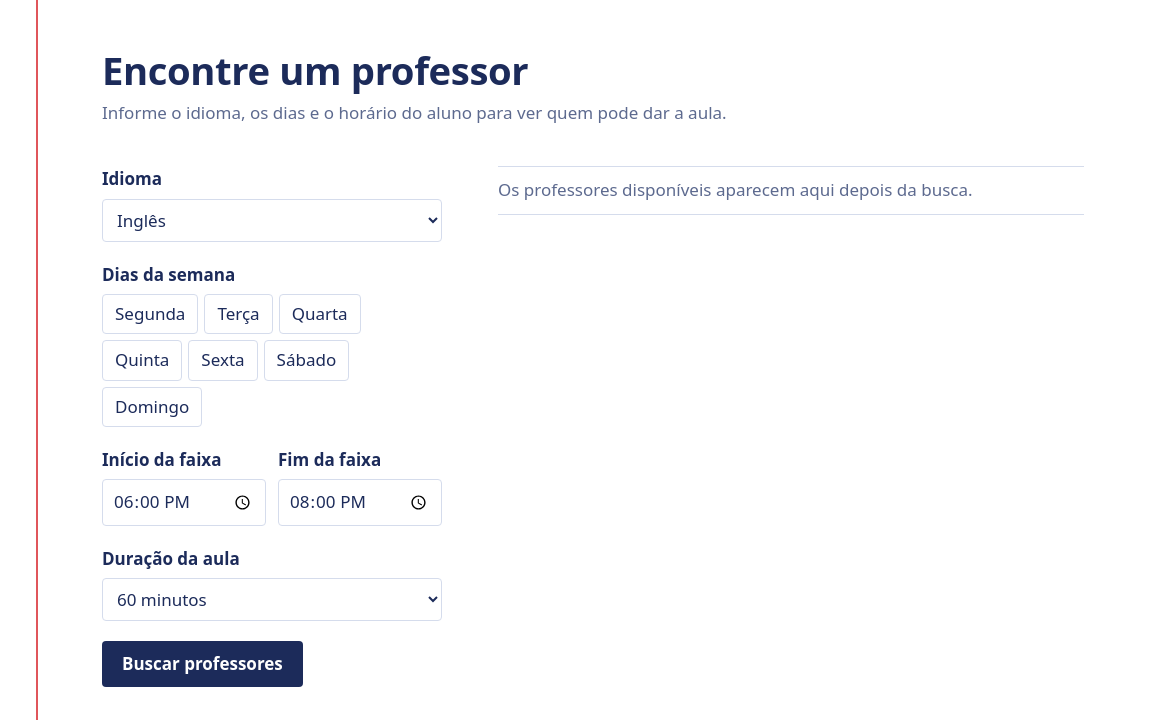
Test: Tela de busca de professores › mostra os erros de validação devolvidos pela API
The width and height of the screenshot is (1152, 720).
Select "Espanhol" in the dropdown labelled "Idioma" at (272, 220), box left=102, top=199, right=442, bottom=242
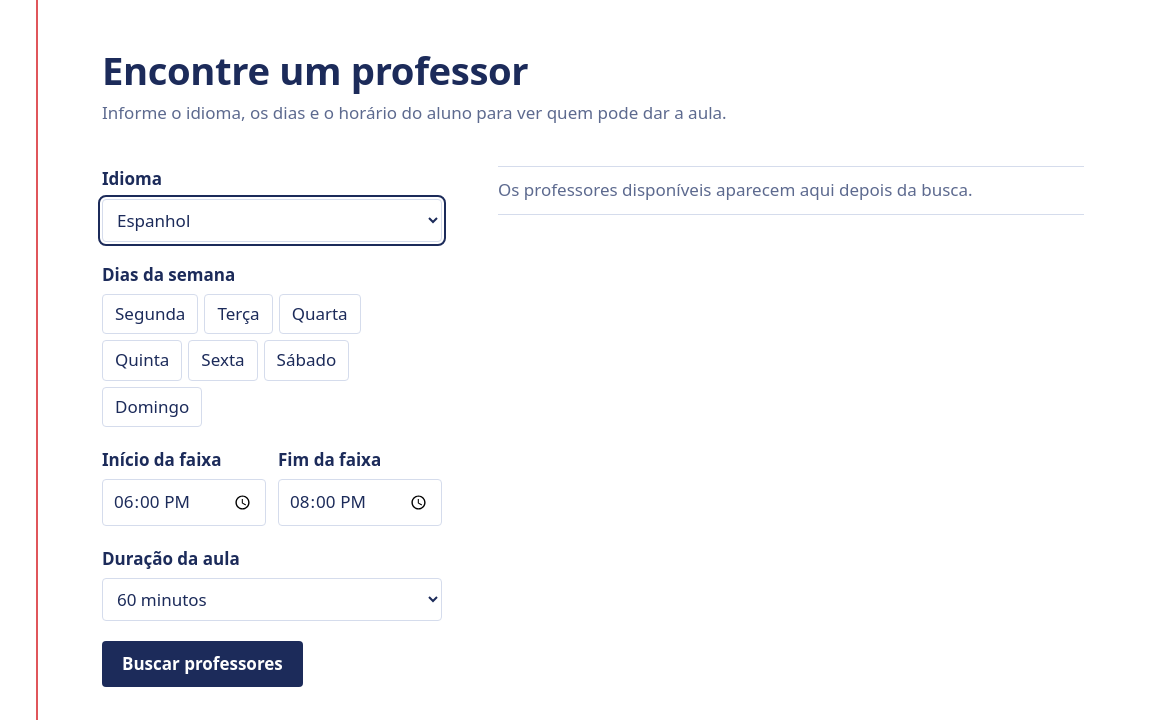
Click the checkbox labelled "Segunda" at (150, 314), box left=102, top=294, right=198, bottom=334
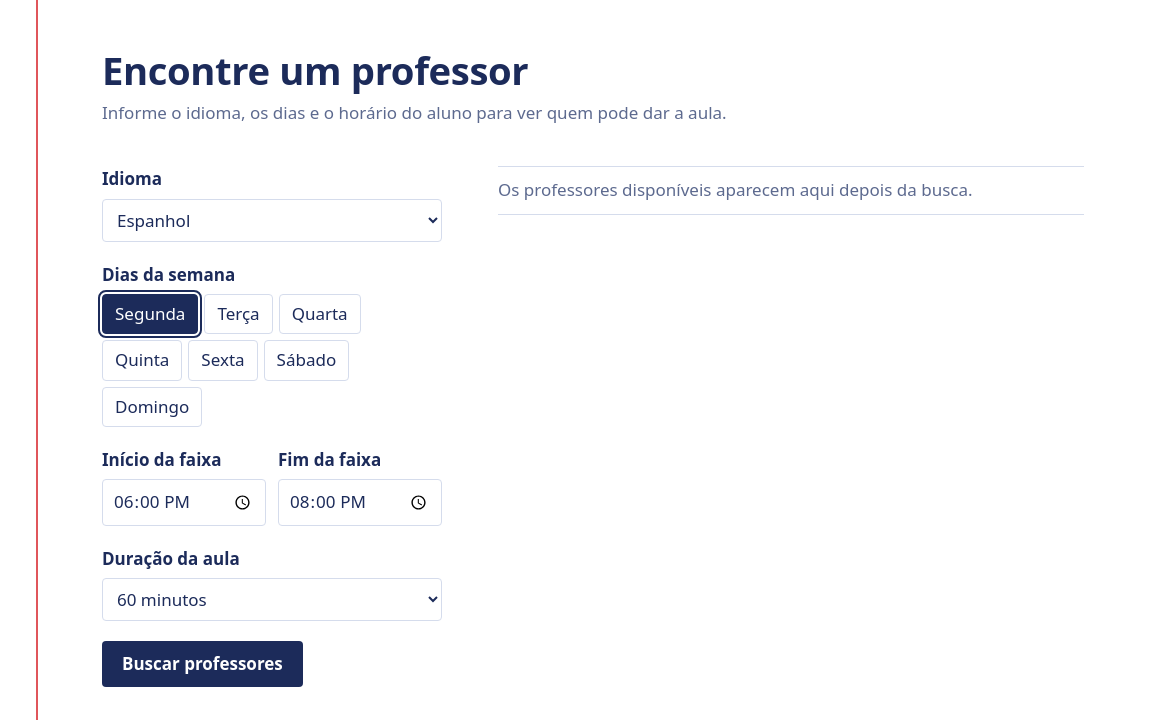
Click the button "Buscar professores" at (202, 664), box left=102, top=641, right=303, bottom=687
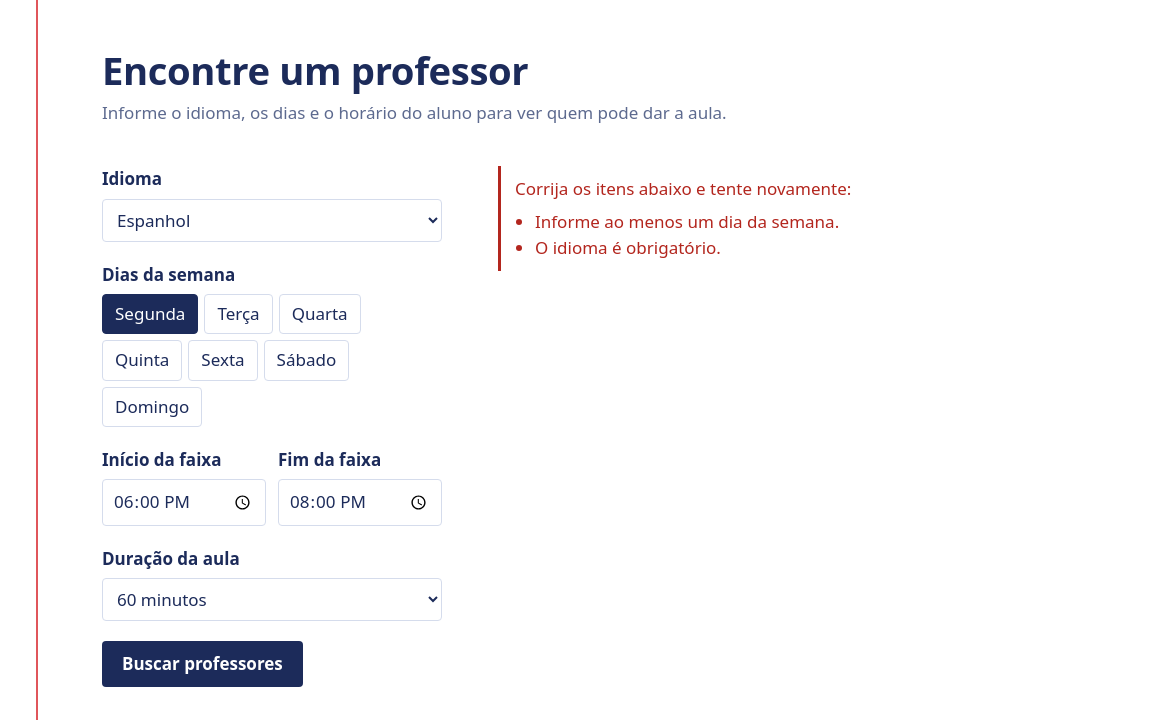
Check: the message shows "Informe ao menos um dia da semana.", box left=535, top=210, right=839, bottom=233
Check: the message shows "O idioma é obrigatório.", box left=535, top=236, right=721, bottom=259
